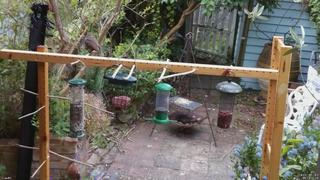starling: (84, 32, 104, 57)
